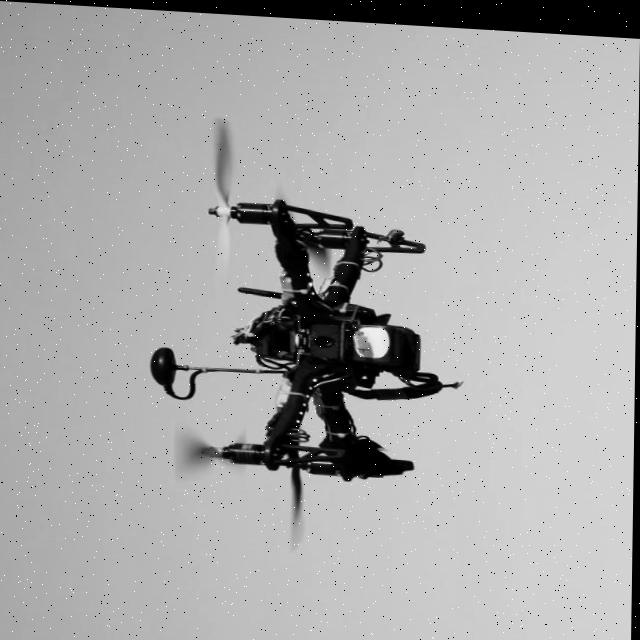drone: (156, 131, 465, 528)
